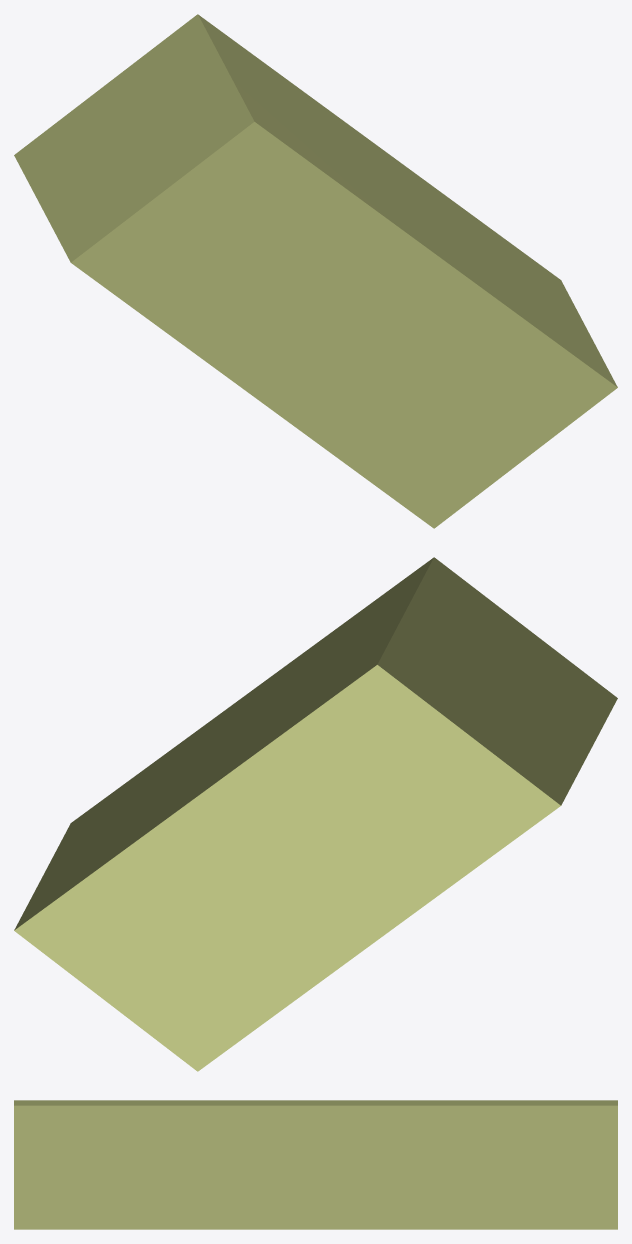
The picture shows the model from 3 angles, top to bottom: view 1: azimuth 30°, elevation 25°; view 2: azimuth 150°, elevation 25°; view 3: azimuth 270°, elevation 25°; orthographic projection. The views are drawn at different scales.
Parts seen in each view (by area): view 1: 0_1_1_3_2_2_3_3_3_1_1_3_1; view 2: 0_1_1_3_2_2_3_3_3_1_1_3_1; view 3: 0_1_1_3_2_2_3_3_3_1_1_3_1.
Boxes of the visible parts, bbox=[...] form: 0_1_1_3_2_2_3_3_3_1_1_3_1: bbox=[14, 14, 617, 528]; 0_1_1_3_2_2_3_3_3_1_1_3_1: bbox=[14, 557, 617, 1071]; 0_1_1_3_2_2_3_3_3_1_1_3_1: bbox=[14, 1100, 617, 1229].
Size of the model in its own units: 3.44 by 2.97 by 9.
